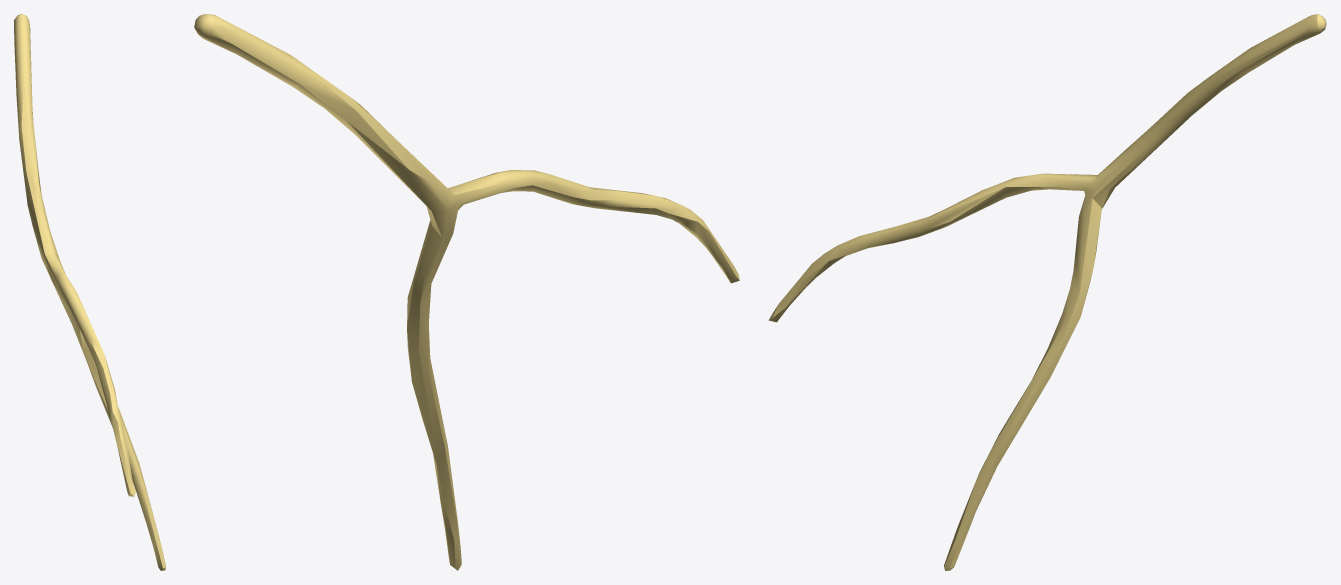
The model's file is fma6201_fj4226.glb.
3 renders of one model, left to right at view 1: azimuth 30°, elevation 25°; view 2: azimuth 150°, elevation 25°; view 3: azimuth 270°, elevation 25°, orthographic. The views are drawn at different scales.
Parts seen in each view (by area): view 1: FMA6201_FJ4226; view 2: FMA6201_FJ4226; view 3: FMA6201_FJ4226.
Part boxes in pixels (x1=…): FMA6201_FJ4226: x1=14, y1=14, x2=165, y2=570; FMA6201_FJ4226: x1=194, y1=14, x2=739, y2=570; FMA6201_FJ4226: x1=768, y1=14, x2=1326, y2=570.
Bounding box in the file's own units: 0.00783 × 0.0286 × 0.0258.
